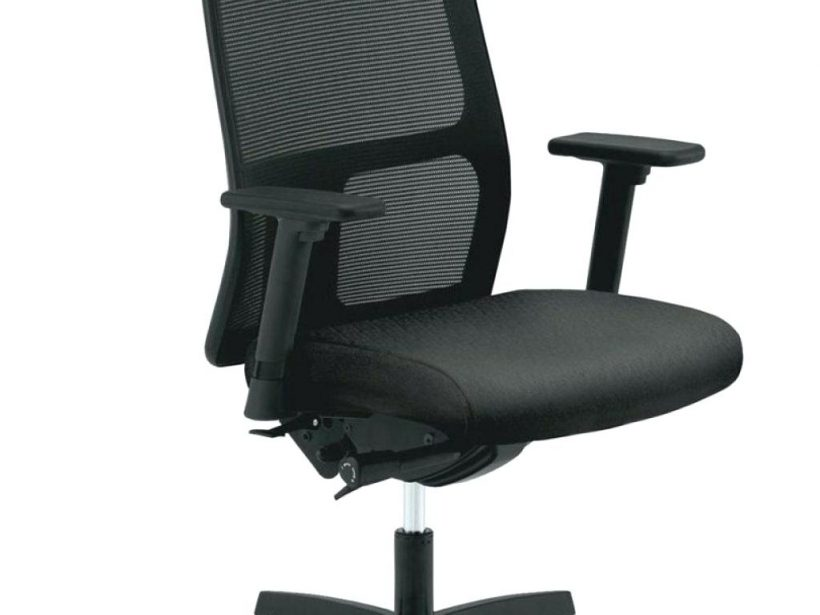chairs: (177, 3, 749, 615)
